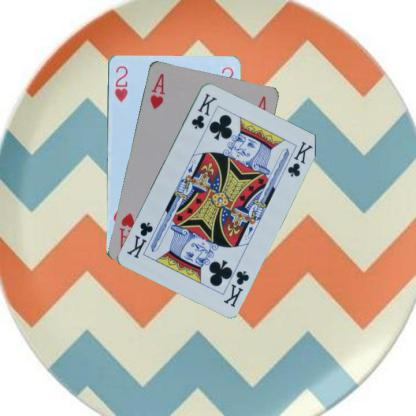2h: (111, 63, 129, 103)
Ah: (147, 70, 166, 110)
Kc: (188, 90, 218, 130), (220, 268, 250, 308)
